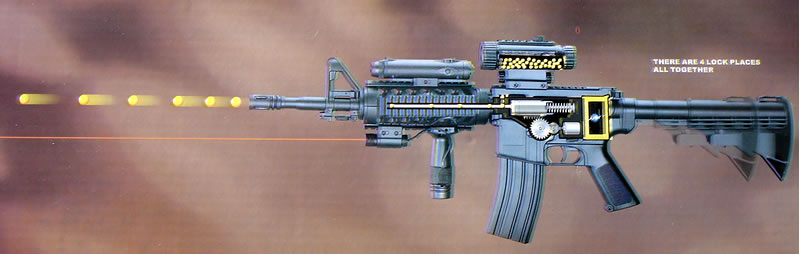rifle: (241, 34, 783, 228)
